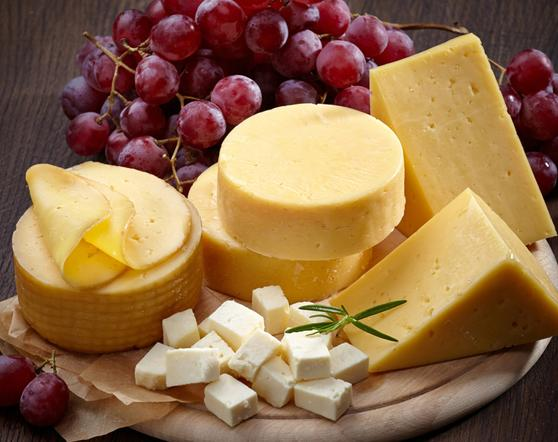cheese: (366, 34, 557, 245)
